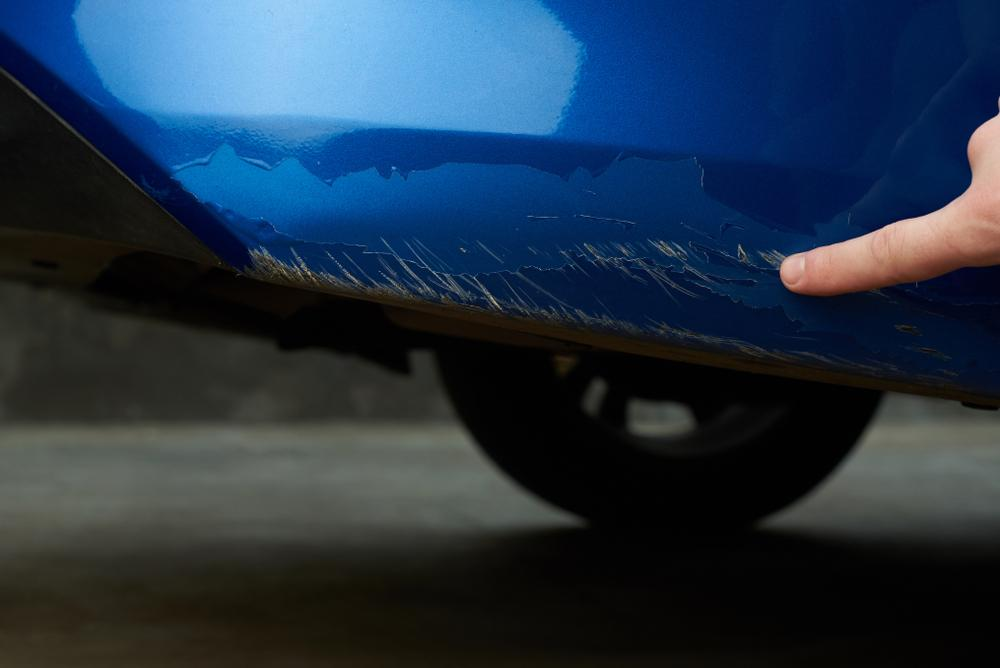scratch: (237, 229, 905, 382)
